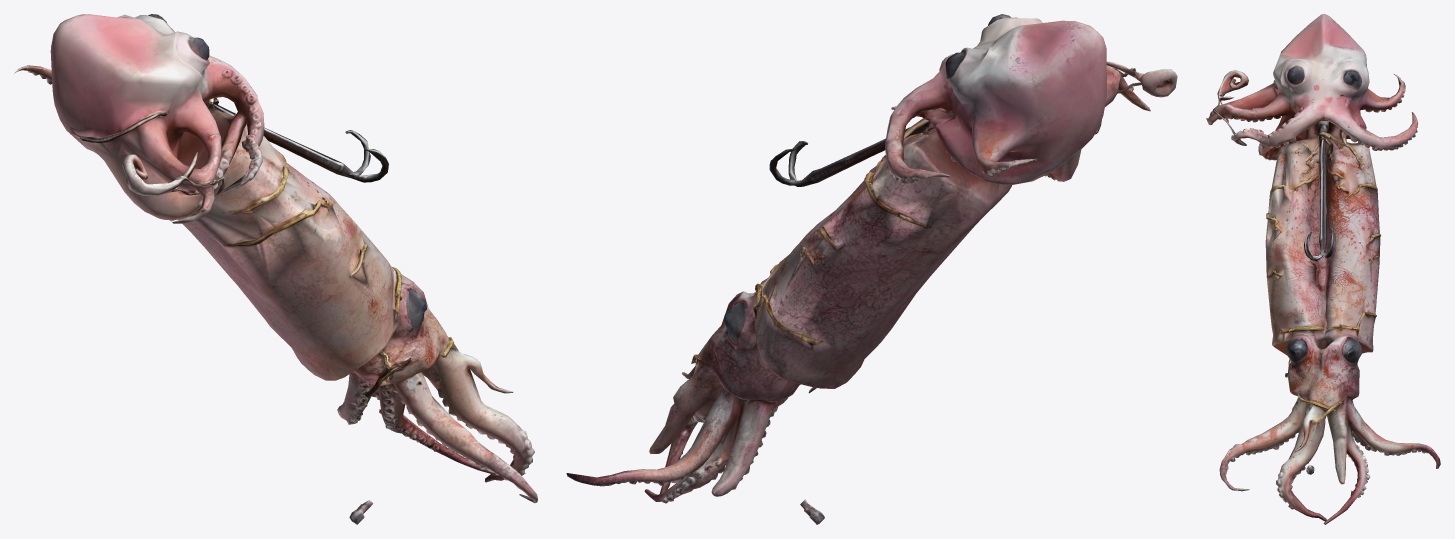
The model's file is squid.glb.
3 renders of one model, left to right at view 1: azimuth 30°, elevation 25°; view 2: azimuth 150°, elevation 25°; view 3: azimuth 270°, elevation 25°, orthographic. The views are drawn at different scales.
Bounding box in the file's own units: 0.8308 × 0.9988 × 0.5674.
Materials: 1 (1 with a texture image).
